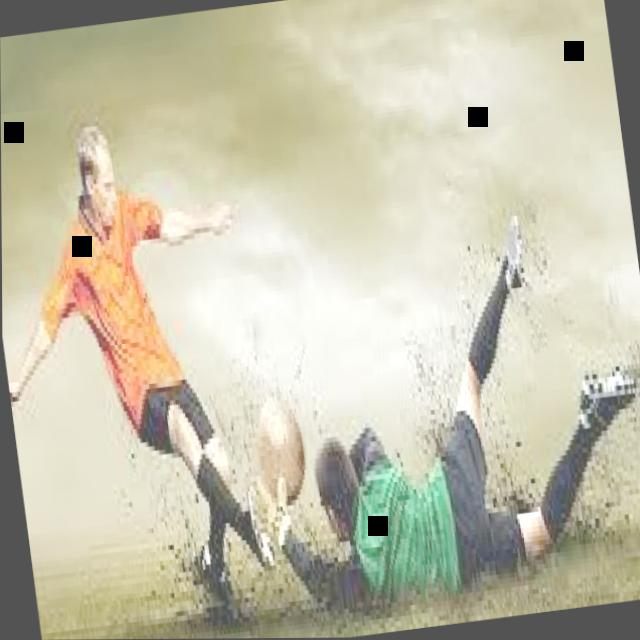Fall-Detected: (216, 160, 640, 633)
